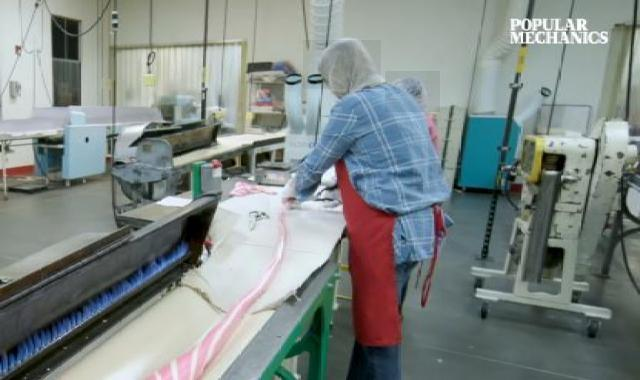apron: (270, 178, 318, 213)
gloves: (303, 40, 381, 89), (386, 71, 441, 112)
